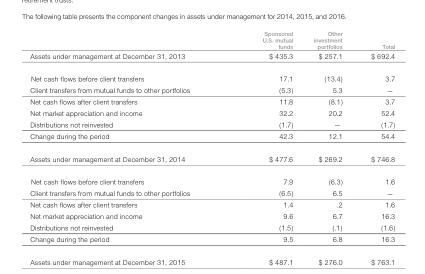table: (29, 28, 394, 242)
table column: (29, 28, 225, 242), (225, 28, 302, 242), (302, 28, 355, 242), (355, 28, 394, 242)
table column header: (29, 28, 394, 50)
table row: (29, 146, 394, 169), (29, 28, 394, 50), (29, 66, 394, 83), (29, 129, 394, 146), (29, 169, 394, 186), (29, 50, 394, 66), (29, 83, 394, 95), (29, 106, 394, 118), (29, 186, 394, 198), (29, 209, 394, 221), (29, 95, 394, 106), (29, 118, 394, 129), (29, 198, 394, 209), (29, 221, 394, 232), (29, 232, 394, 242)
